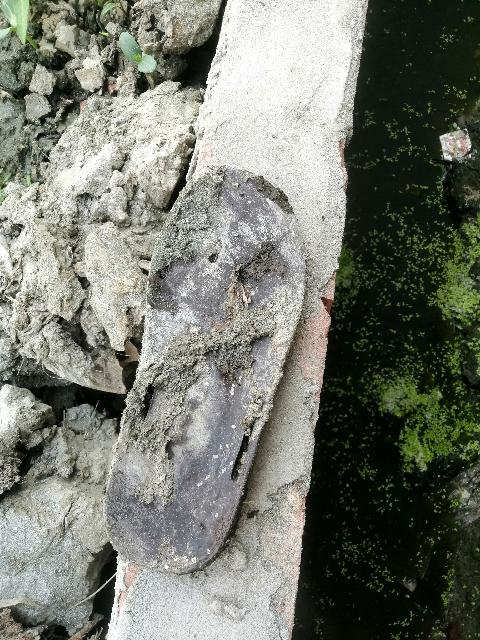sandal: (72, 138, 339, 589)
